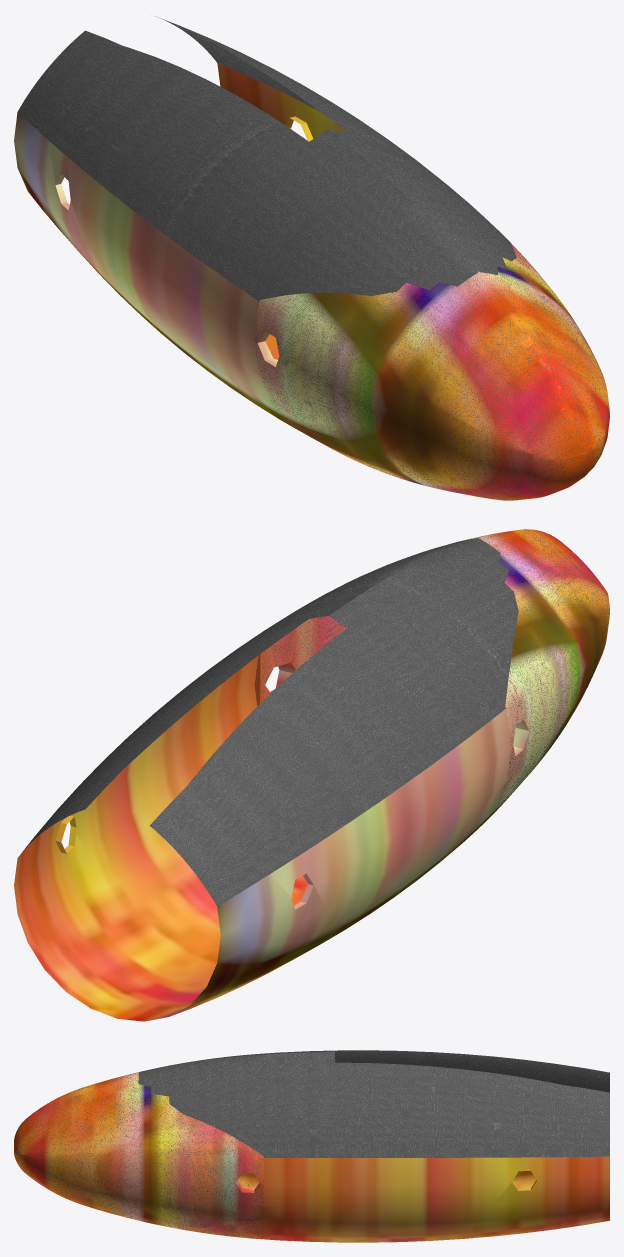
Rendered from PropShield.dae.
3 renders of one model, top to bottom at view 1: azimuth 30°, elevation 25°; view 2: azimuth 150°, elevation 25°; view 3: azimuth 270°, elevation 25°, orthographic. The views are drawn at different scales.
Visible parts, largest first — view 1: group_0 (×3); view 2: group_0 (×3); view 3: group_0 (×3).
Part boxes in pixels (x1,y1,x2,y2): group_0 (×3): (14,16,609,500); group_0 (×3): (14,529,609,1021); group_0 (×3): (14,1050,609,1242).
Bounding box in the file's own units: 6.33 × 18.91 × 6.37.
Materials: 7 (2 with a texture image).
